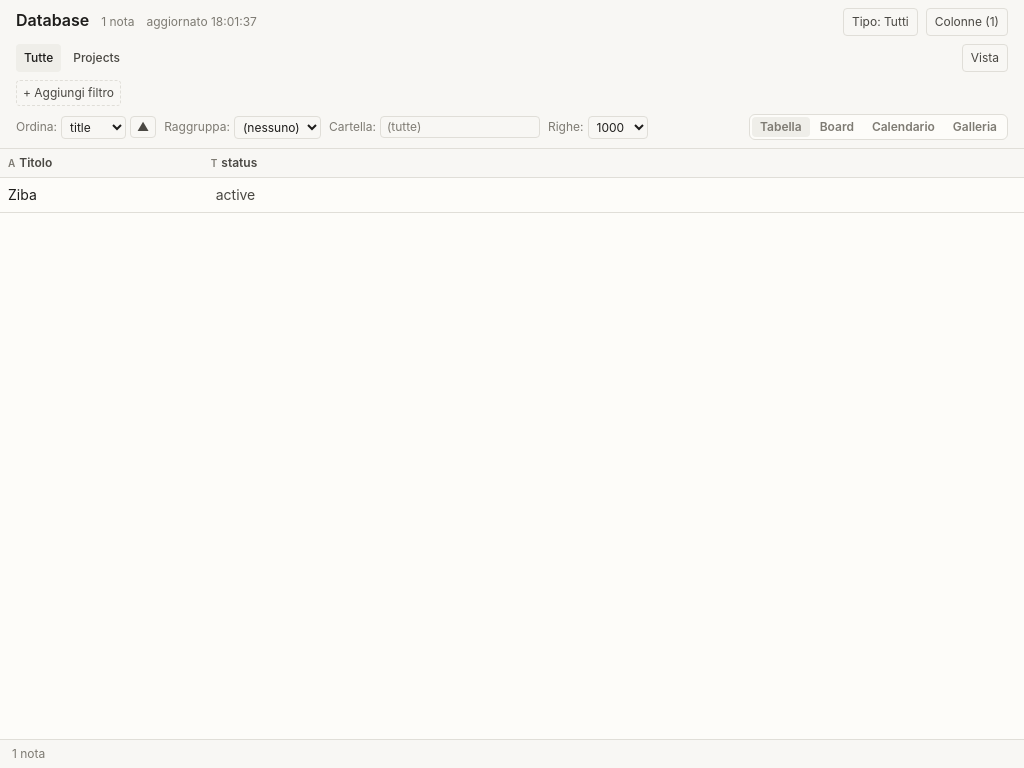
<DatabaseView> › disables saved-view actions while duplicate is pending and applies the returned copy
Check: the tab "Tutte" is shown, box left=16, top=44, right=61, bottom=72
Click the tab "Projects" at (97, 58), box left=65, top=44, right=128, bottom=72
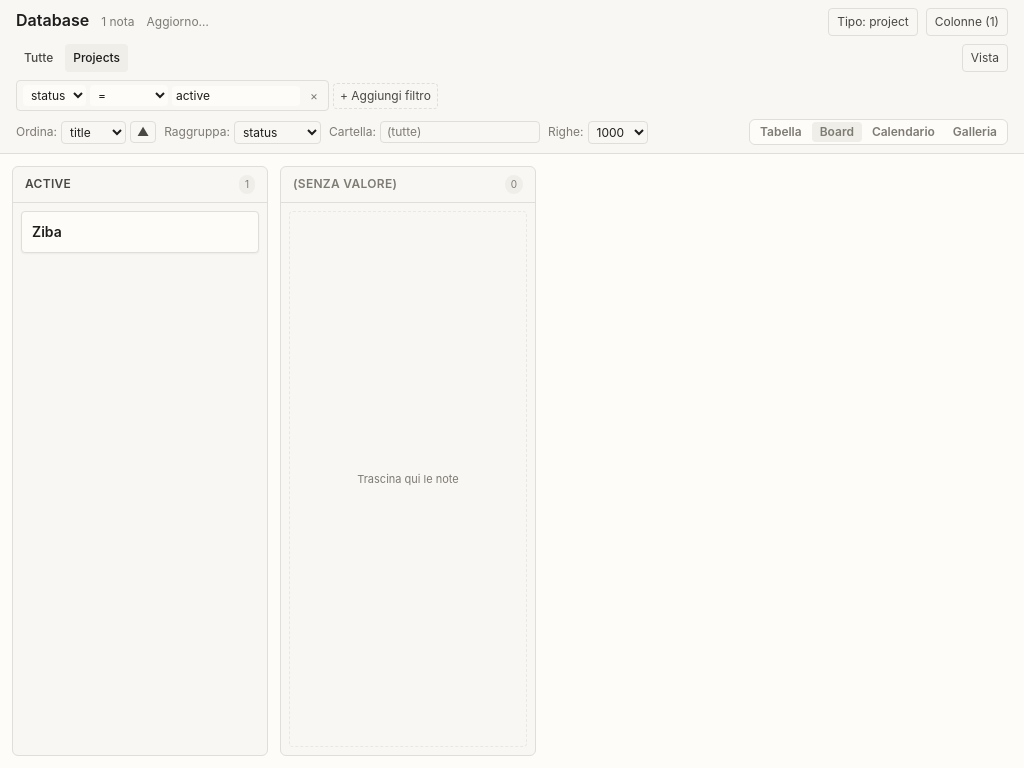
Click the button "Vista" at (985, 58), box left=962, top=44, right=1008, bottom=72
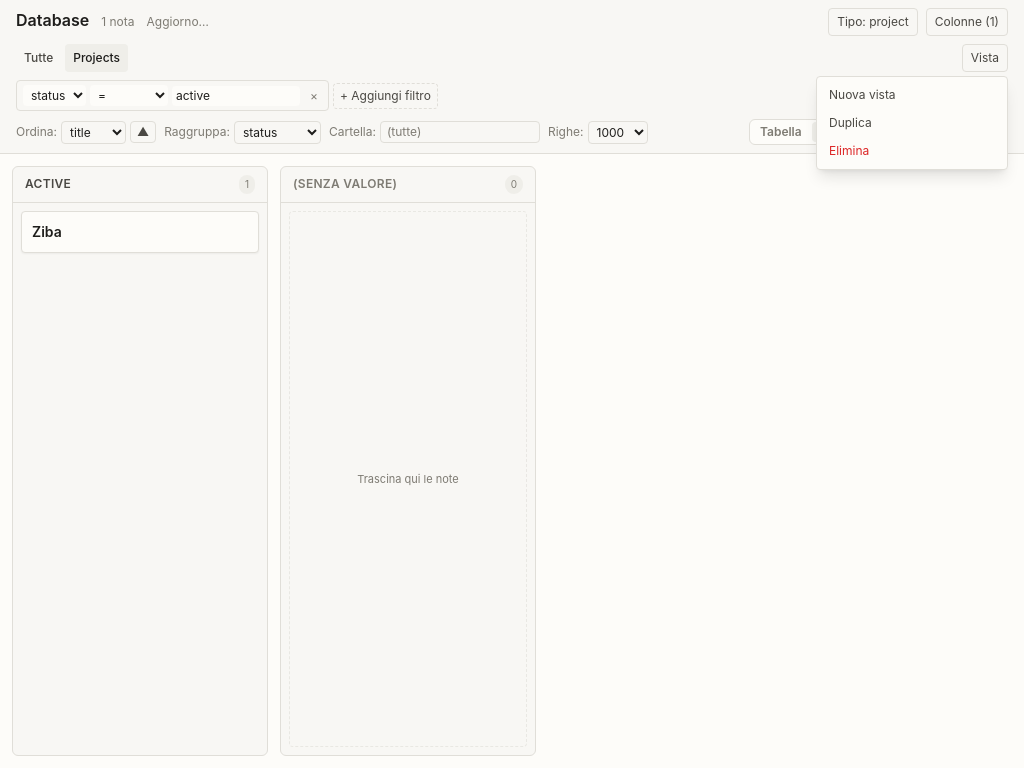
Click the menu item "Duplica" at (912, 123), box left=821, top=109, right=1003, bottom=137
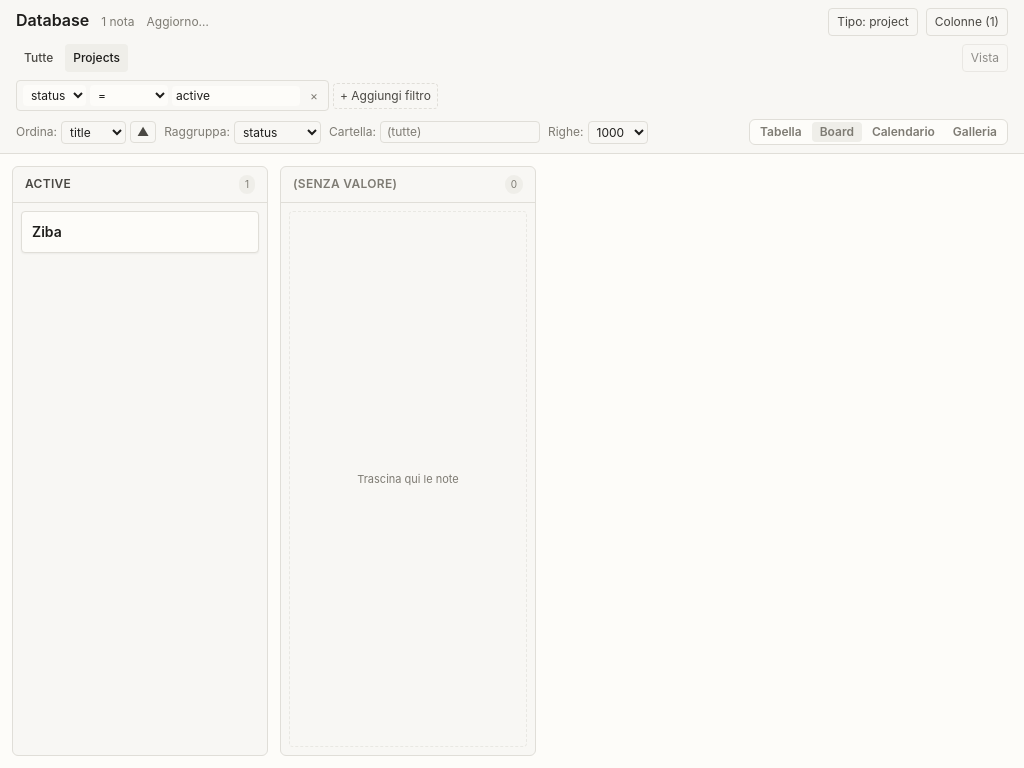
Check: the button "Vista" is disabled
Click the button "Vista" at (985, 58), box left=962, top=44, right=1008, bottom=72
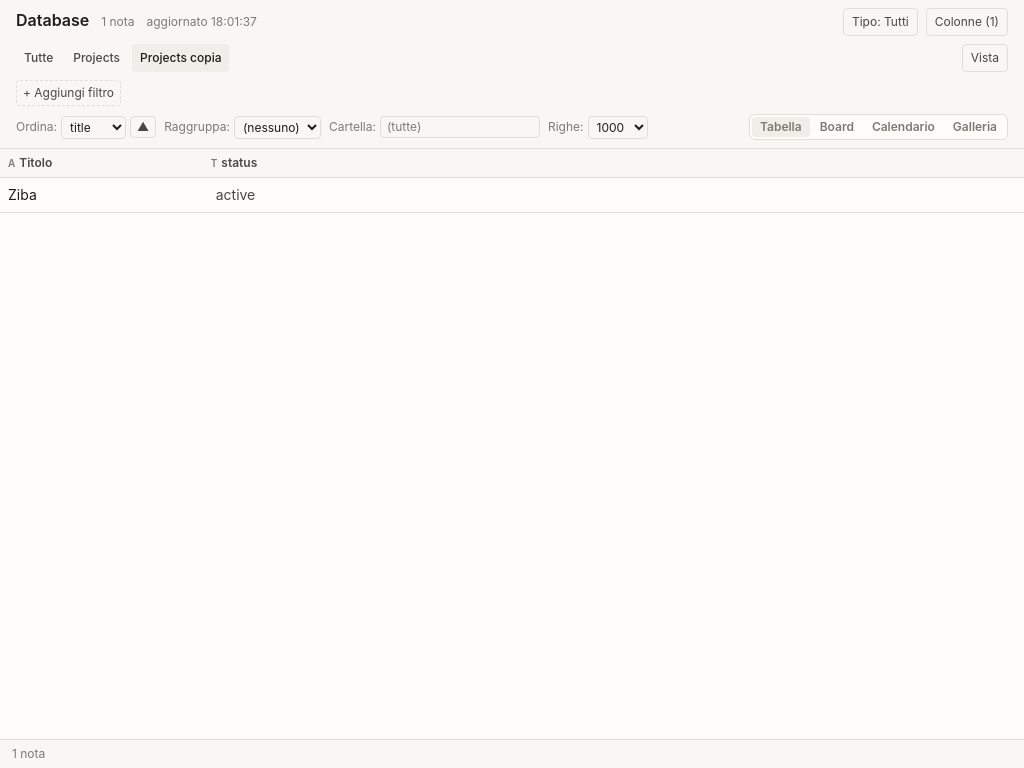
Check: the button "Vista" is enabled, box left=962, top=44, right=1008, bottom=72
